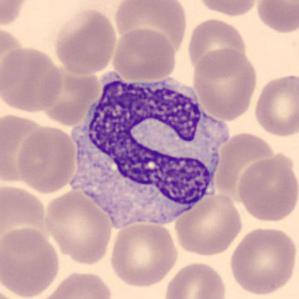Monocyte: (63, 65, 229, 235)
RBC: (42, 189, 114, 265), (190, 46, 259, 121), (228, 224, 298, 296), (108, 221, 180, 288), (51, 6, 119, 76), (172, 191, 244, 256), (15, 123, 78, 196), (0, 225, 62, 299), (216, 128, 276, 204), (0, 44, 65, 113), (235, 153, 298, 224), (112, 0, 188, 58), (110, 26, 178, 82), (185, 16, 249, 75), (0, 181, 50, 256), (0, 111, 49, 182), (251, 71, 299, 138), (42, 67, 102, 120), (162, 259, 229, 299), (37, 269, 114, 299), (253, 0, 298, 36), (193, 0, 260, 17), (0, 0, 31, 30)
